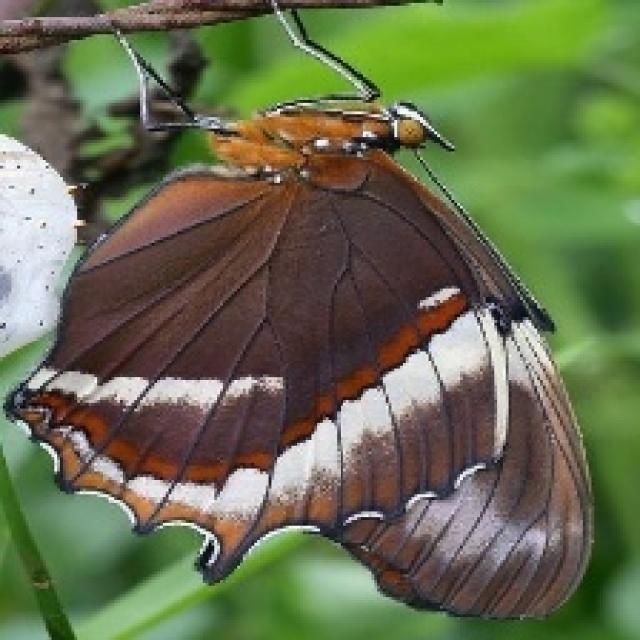butterfly: (0, 0, 594, 620)
